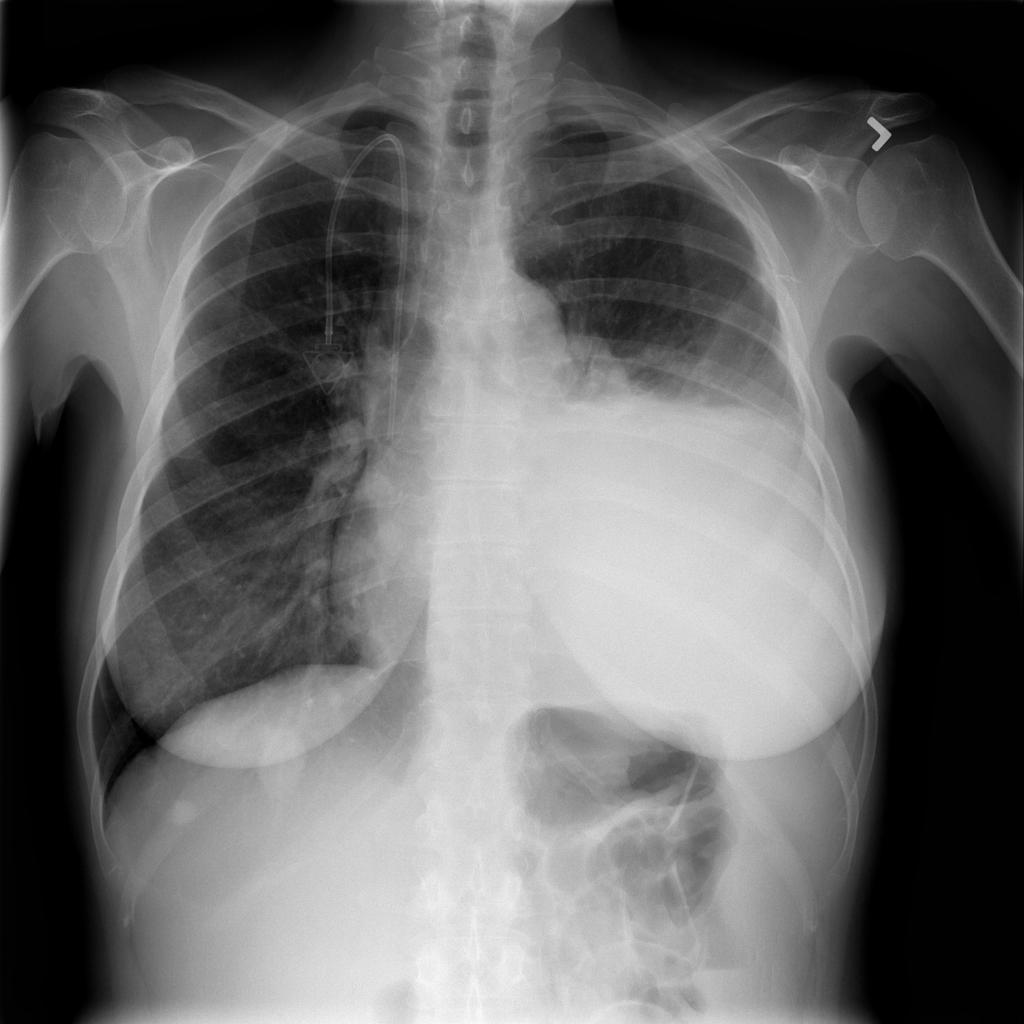nodule: (223, 699, 330, 808), (158, 790, 214, 835)
